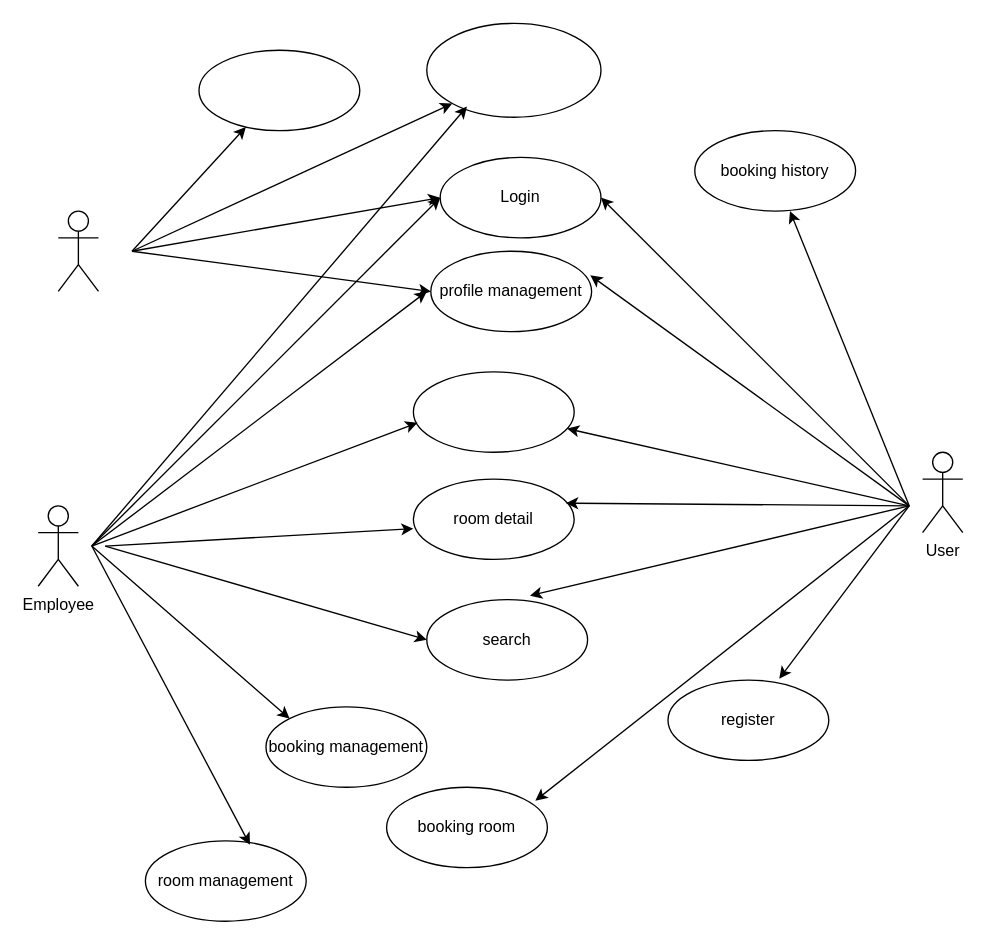
Some shapes in this 986 by 945 pixel diagram are drawn without their labels. Here are the shapes that lost their labels. From the top down, the centre of each, then its label:
At point 513,69: "Statistic".
At point 279,90: "employee management".
At point 77,250: "Administrator".
At point 493,411: "cancel booking".
